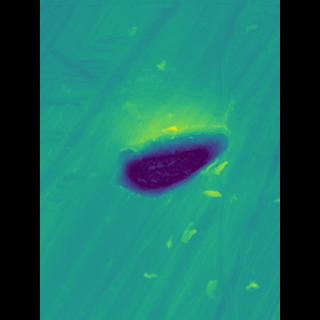Loch: (198, 0, 228, 320), (118, 117, 218, 205)
